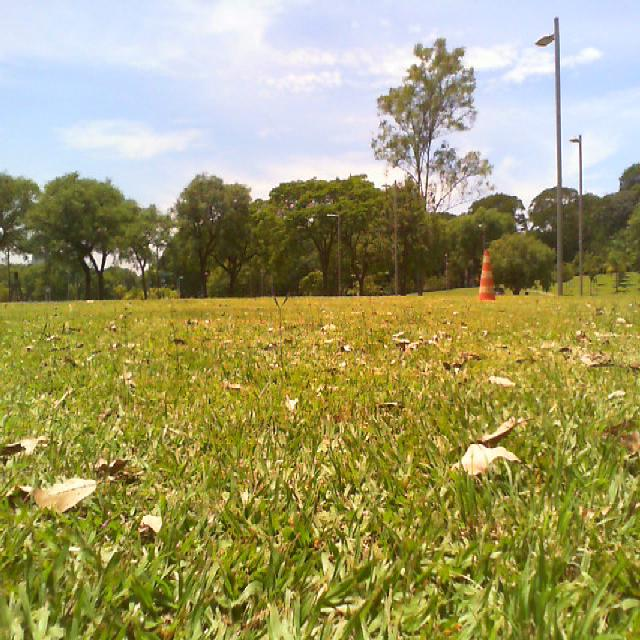cone: (476, 251, 498, 304)
